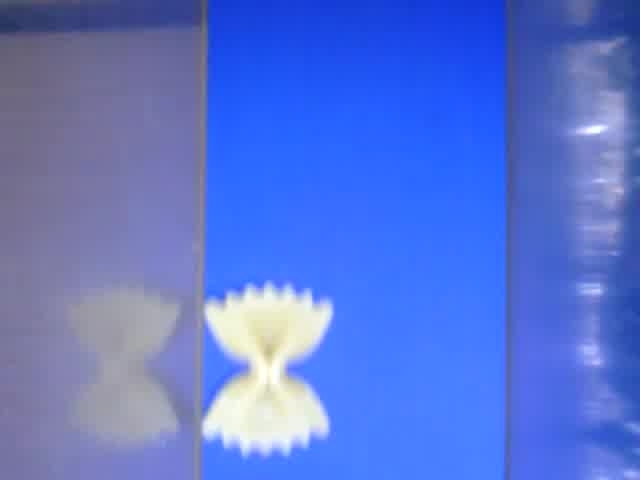farfalle: (201, 282, 332, 456)
